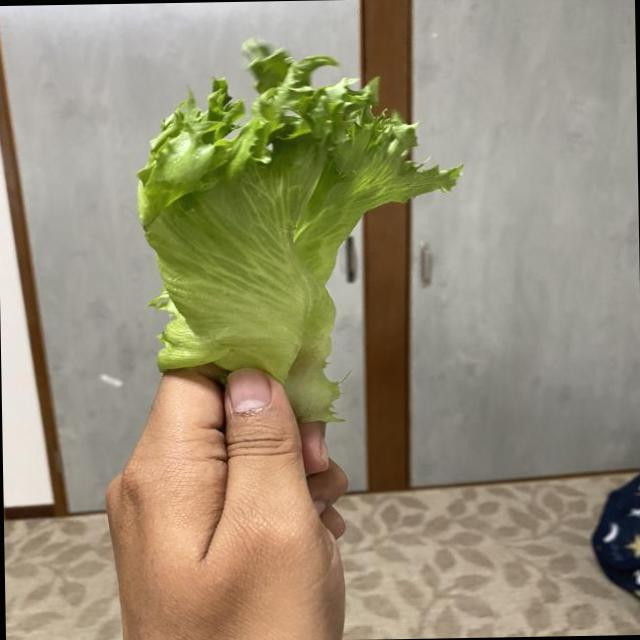Lettuce-Ready-to-Harvest: (137, 41, 460, 420)
